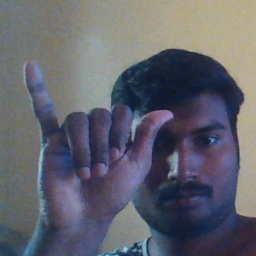J: (19, 58, 172, 224)
